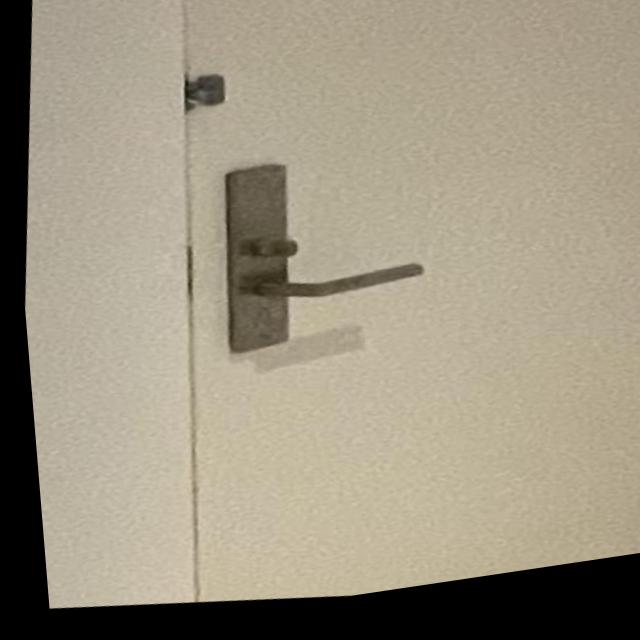door_handle: (199, 243, 441, 349)
